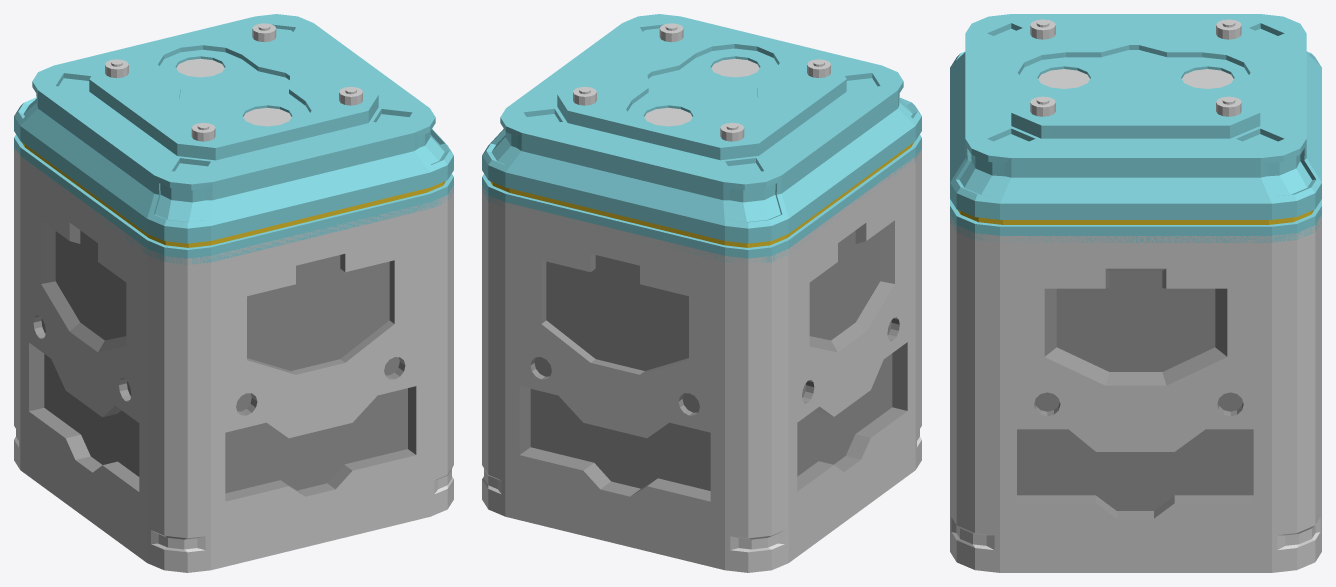
Rendered from Chest.fbx.
3 renders of one model, left to right at view 1: azimuth 30°, elevation 25°; view 2: azimuth 150°, elevation 25°; view 3: azimuth 270°, elevation 25°, orthographic. The views are drawn at different scales.
Parts seen in each view (by area): view 1: Chest, Chest_Top; view 2: Chest, Chest_Top; view 3: Chest, Chest_Top.
Part boxes in pixels (x1=…): Chest: x1=14, y1=147, x2=453, y2=572; Chest_Top: x1=14, y1=14, x2=453, y2=264; Chest: x1=482, y1=147, x2=921, y2=572; Chest_Top: x1=482, y1=14, x2=921, y2=264; Chest: x1=950, y1=215, x2=1321, y2=572; Chest_Top: x1=950, y1=14, x2=1321, y2=242.
Size of the model in its own units: 0.72 by 0.9254 by 0.72.
